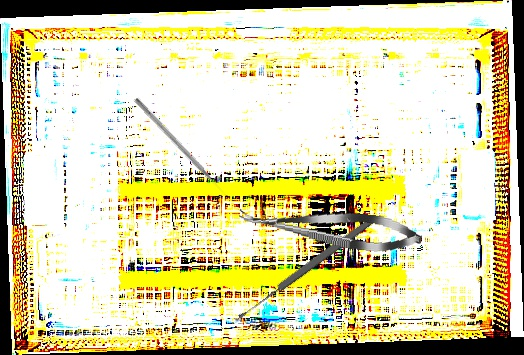Hook Surgical: (132, 96, 229, 199)
Micro Scissor: (236, 198, 424, 258)
Surgical Spoon: (236, 214, 377, 322)
